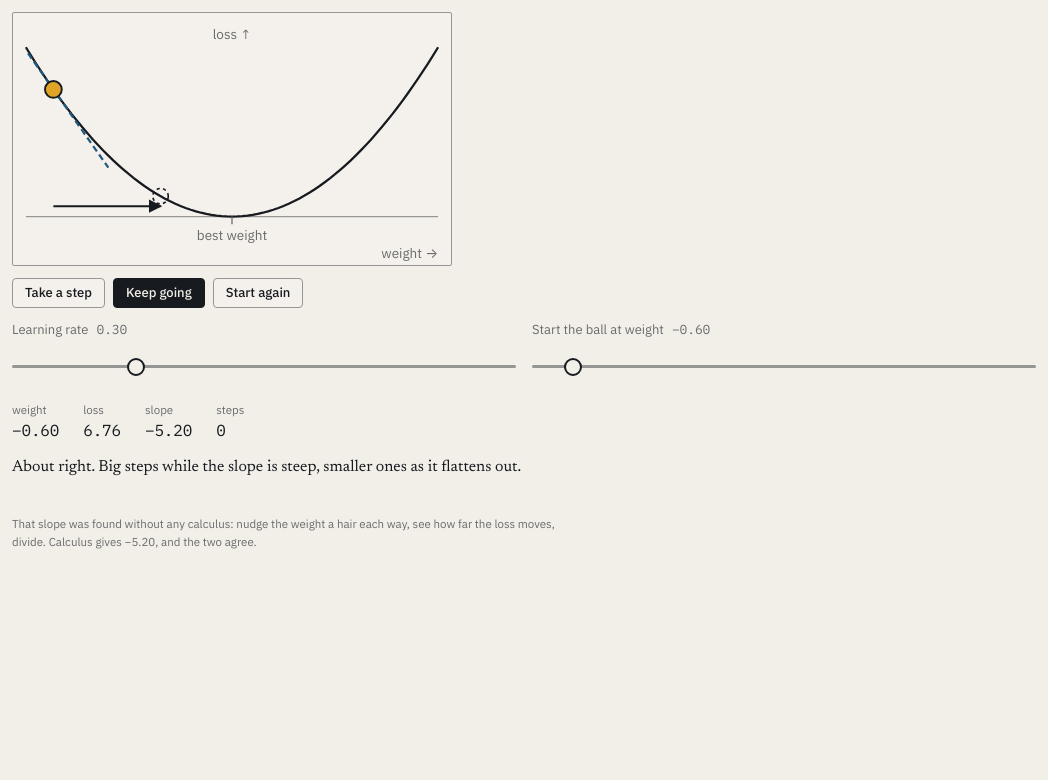
<GradientDescent1D> › describes each regime as you drag the rate through them
The width and height of the screenshot is (1048, 780).
Set the slider labelled "Learning rate" to "0.04" at (28, 367), box [12,345,516,389]
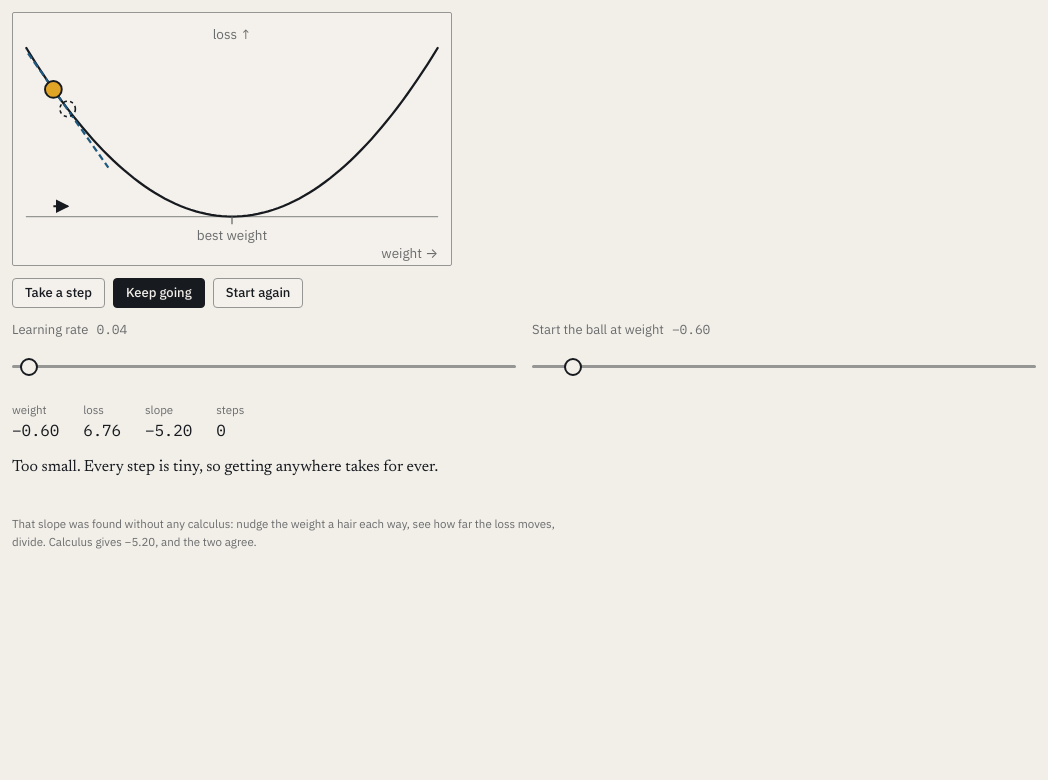
Check: the message shows "Too small", box [12,459,438,475]
Set the slider labelled "Learning rate" to "0.25" at (115, 367), box [12,345,516,389]
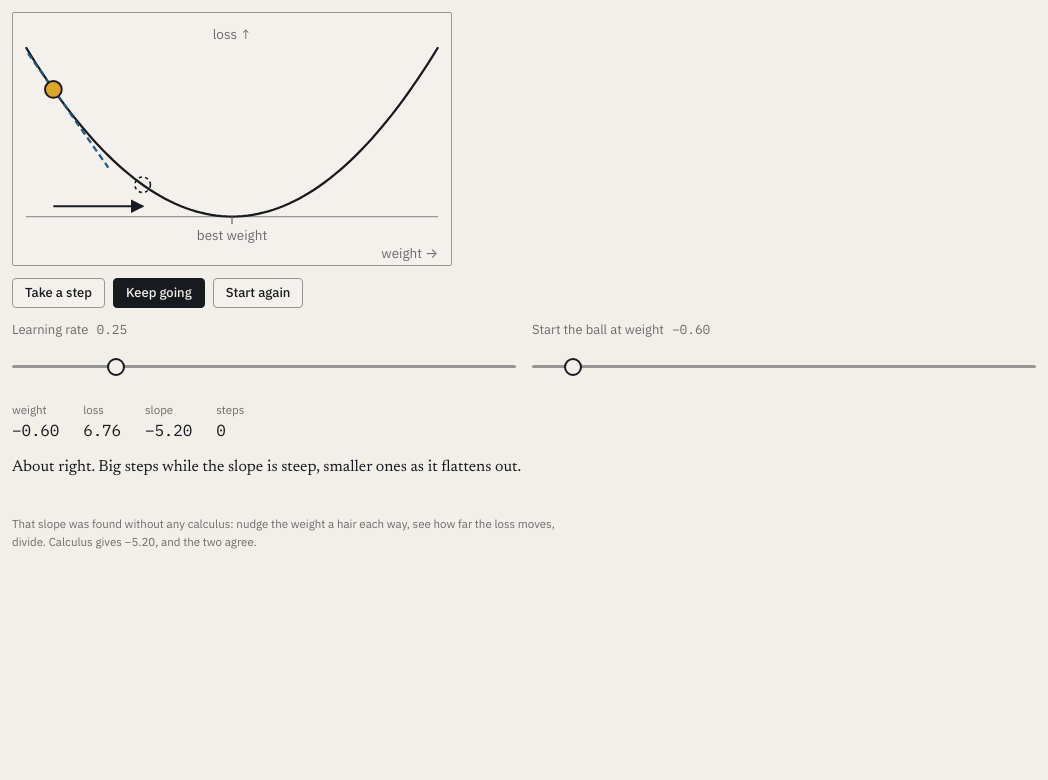
Check: the message shows "About right", box [12,459,521,475]
Set the slider labelled "Learning rate" to "0.8" at (343, 367), box [12,345,516,389]
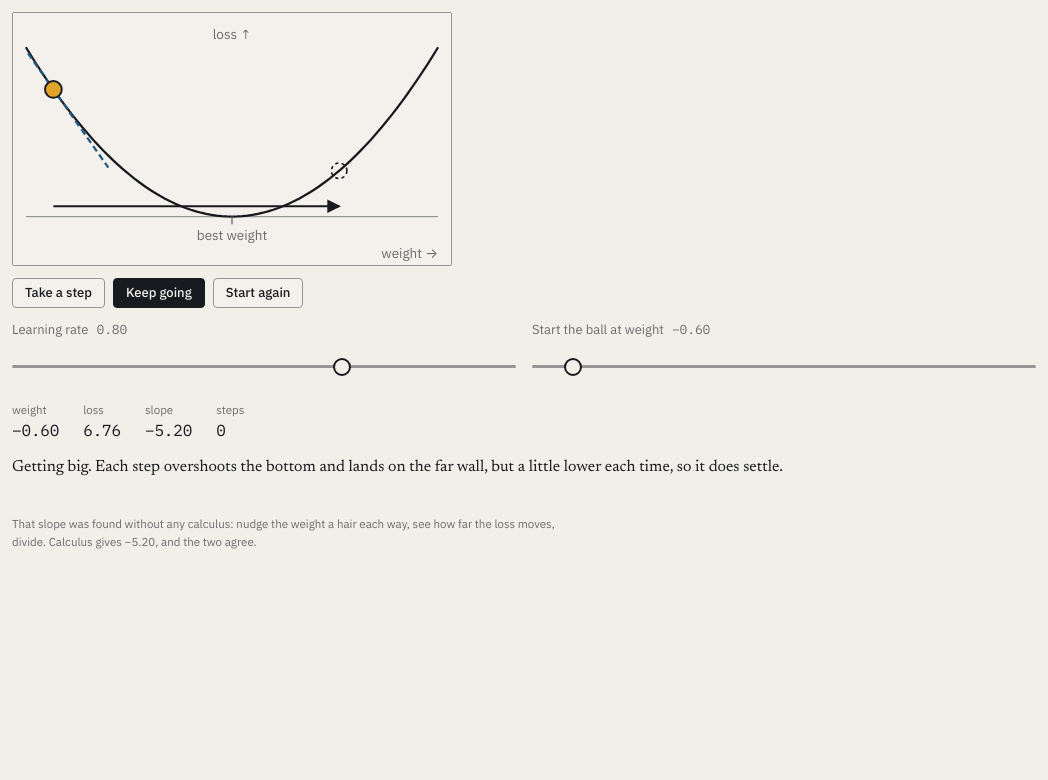
Check: the message shows "Getting big", box [12,459,783,475]
Set the slider labelled "Learning rate" to "1.1" at (467, 367), box [12,345,516,389]
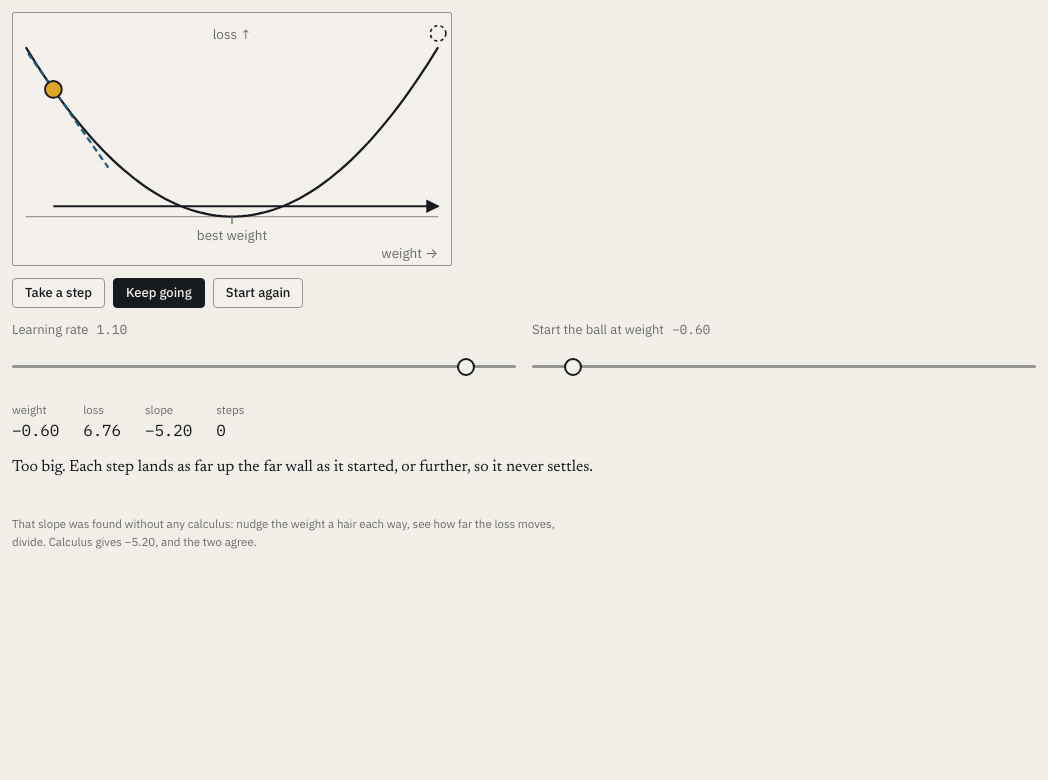
Check: the message shows "Too big", box [12,459,593,475]
